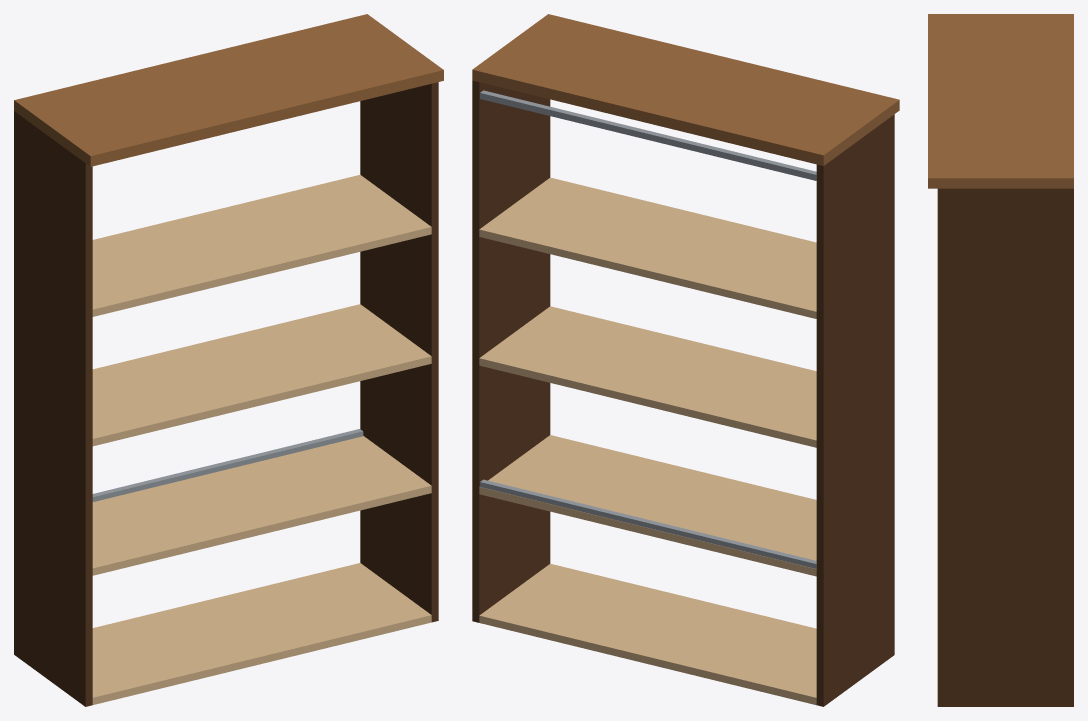
Rendered from shelf.glb.
3 renders of one model, left to right at view 1: azimuth 30°, elevation 25°; view 2: azimuth 150°, elevation 25°; view 3: azimuth 270°, elevation 25°, orthographic. The views are drawn at different scales.
Parts seen in each view (by area): view 1: material-1-shelf, material-0-body, material-2-top, material-3-metal; view 2: material-1-shelf, material-0-body, material-2-top, material-3-metal; view 3: material-0-body, material-2-top.
Boxes of the visible parts, box(x1,y1,x2,y2) form: material-1-shelf: box(92, 174, 431, 704); material-0-body: box(14, 82, 438, 706); material-2-top: box(14, 14, 443, 166); material-3-metal: box(92, 429, 363, 501); material-1-shelf: box(479, 177, 816, 705); material-0-body: box(472, 80, 894, 706); material-2-top: box(472, 14, 899, 165); material-3-metal: box(480, 90, 816, 568); material-0-body: box(937, 188, 1073, 706); material-2-top: box(928, 14, 1073, 188).
Bounding box in the file's own units: 1.2 × 1.8 × 0.45.
